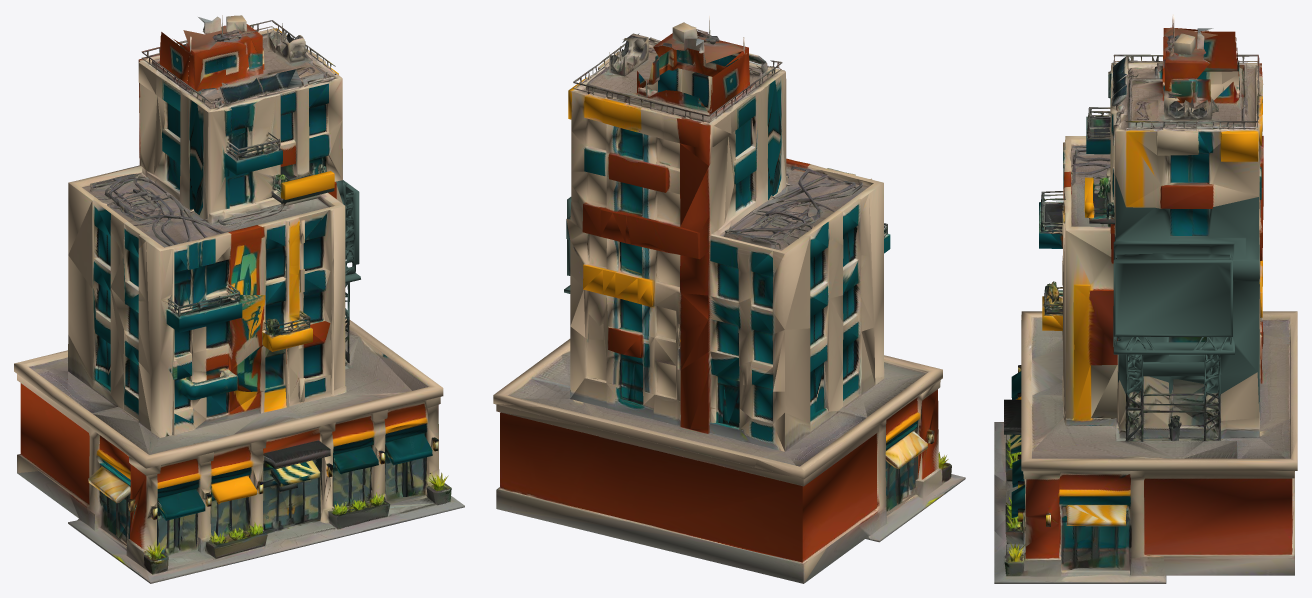
File: JHB_Building02_LOD0.fbx
3 renders of one model, left to right at view 1: azimuth 30°, elevation 25°; view 2: azimuth 150°, elevation 25°; view 3: azimuth 270°, elevation 25°, orthographic. The views are drawn at different scales.
Visible parts, largest first — view 1: JHB_Building02_Shell, JHB_Building02_Windows, JHB_Building02_Awnings, JHB_Building02_GroundFloor, JHB_Building02_Entrance, JHB_Building02_SolarPanels, JHB_Building02_Roof, JHB_Building02_Billboard, JHB_Building02_Mural, JHB_Building02_Balconies; view 2: JHB_Building02_Windows, JHB_Building02_GroundFloor, JHB_Building02_Shell, JHB_Building02_Awnings, JHB_Building02_Roof, JHB_Building02_SolarPanels; view 3: JHB_Building02_Awnings, JHB_Building02_Billboard, JHB_Building02_GroundFloor, JHB_Building02_Windows, JHB_Building02_Shell, JHB_Building02_Roof, JHB_Building02_SolarPanels, JHB_Building02_Entrance, JHB_Building02_Mural.
Part boxes in pixels (<box>): JHB_Building02_Shell: <box>68,62,349,437</box>; JHB_Building02_Windows: <box>68,60,349,437</box>; JHB_Building02_Awnings: <box>14,316,448,557</box>; JHB_Building02_GroundFloor: <box>14,334,464,583</box>; JHB_Building02_Entrance: <box>227,405,372,565</box>; JHB_Building02_SolarPanels: <box>175,35,342,112</box>; JHB_Building02_Roof: <box>139,15,318,91</box>; JHB_Building02_Billboard: <box>285,180,360,321</box>; JHB_Building02_Mural: <box>222,289,312,391</box>; JHB_Building02_Balconies: <box>179,297,242,332</box>; JHB_Building02_Windows: <box>566,68,887,428</box>; JHB_Building02_GroundFloor: <box>494,350,965,583</box>; JHB_Building02_Shell: <box>568,68,890,451</box>; JHB_Building02_Awnings: <box>493,339,948,564</box>; JHB_Building02_Roof: <box>568,16,754,125</box>; JHB_Building02_SolarPanels: <box>608,33,785,95</box>; JHB_Building02_Awnings: <box>1005,311,1297,567</box>; JHB_Building02_Billboard: <box>1113,175,1259,411</box>; JHB_Building02_GroundFloor: <box>994,311,1297,583</box>; JHB_Building02_Windows: <box>1041,74,1263,431</box>; JHB_Building02_Shell: <box>1039,71,1263,440</box>; JHB_Building02_Roof: <box>1152,14,1263,133</box>; JHB_Building02_SolarPanels: <box>1108,37,1186,132</box>; JHB_Building02_Entrance: <box>994,357,1062,530</box>; JHB_Building02_Mural: <box>1039,215,1062,330</box>.
Size of the model in its own units: 18.17 by 25.85 by 14.55.
6 materials, 5 textured.
